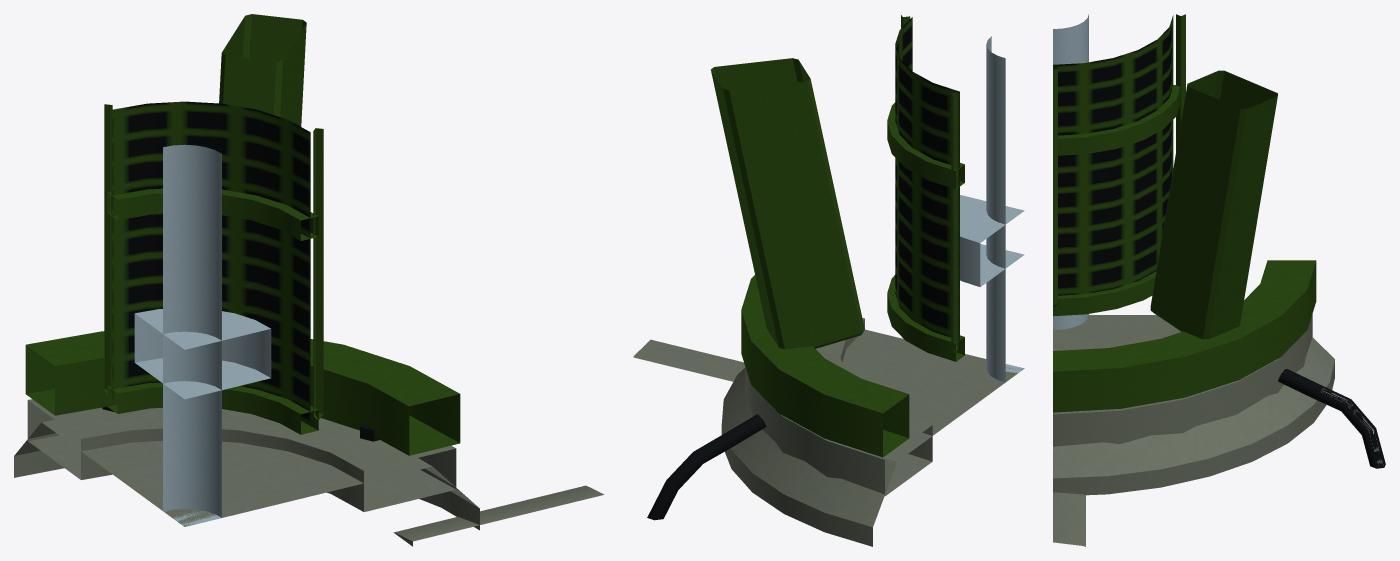
Rendered from cell_10.obj.
3 renders of one model, left to right at view 1: azimuth 30°, elevation 25°; view 2: azimuth 150°, elevation 25°; view 3: azimuth 270°, elevation 25°, orthographic. The views are drawn at different scales.
Parts seen in each view (by area): view 1: cell_10; view 2: cell_10; view 3: cell_10.
Boxes of the visible parts, left/top/right/bottom form: cell_10: left=14, top=14, right=604, bottom=546; cell_10: left=633, top=15, right=1024, bottom=546; cell_10: left=1053, top=14, right=1385, bottom=546.
Size of the model in its own units: 1 by 1 by 0.8295.
